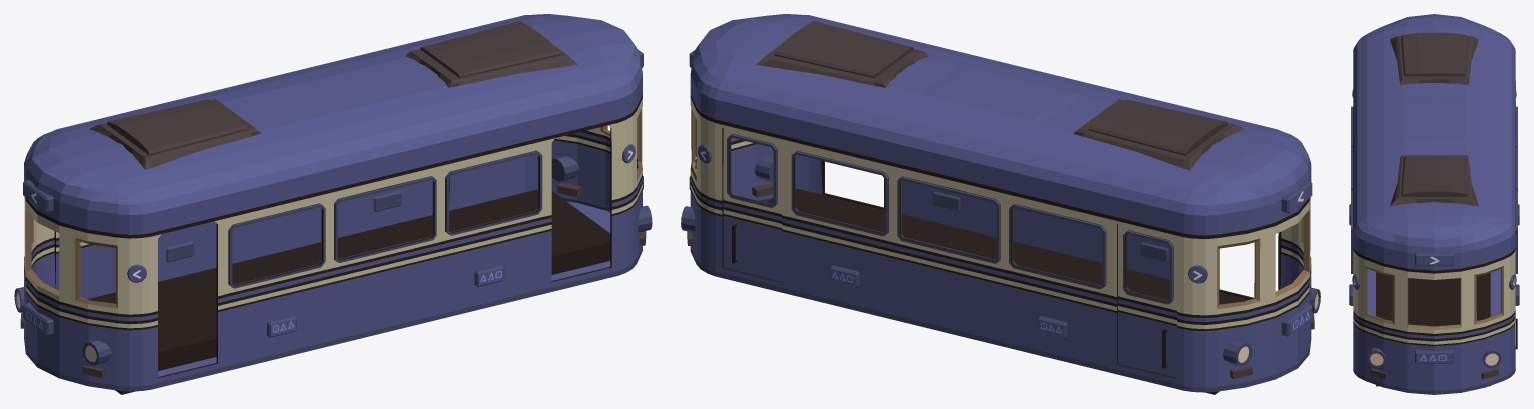
The model's file is 3D_Lost_Train_.fbx.
3 views of the same model, side by side, from view 1: azimuth 30°, elevation 25°; view 2: azimuth 150°, elevation 25°; view 3: azimuth 270°, elevation 25° (orthographic). The views are drawn at different scales.
Visible parts, largest first — view 1: 3D_Lost_Train_; view 2: 3D_Lost_Train_; view 3: 3D_Lost_Train_.
Part boxes in pixels (x1,y1,x2,y2): 3D_Lost_Train_: (14, 14, 652, 394); 3D_Lost_Train_: (681, 14, 1320, 394); 3D_Lost_Train_: (1349, 14, 1519, 394).
Bounding box in the file's own units: 1518 × 544 × 473.
